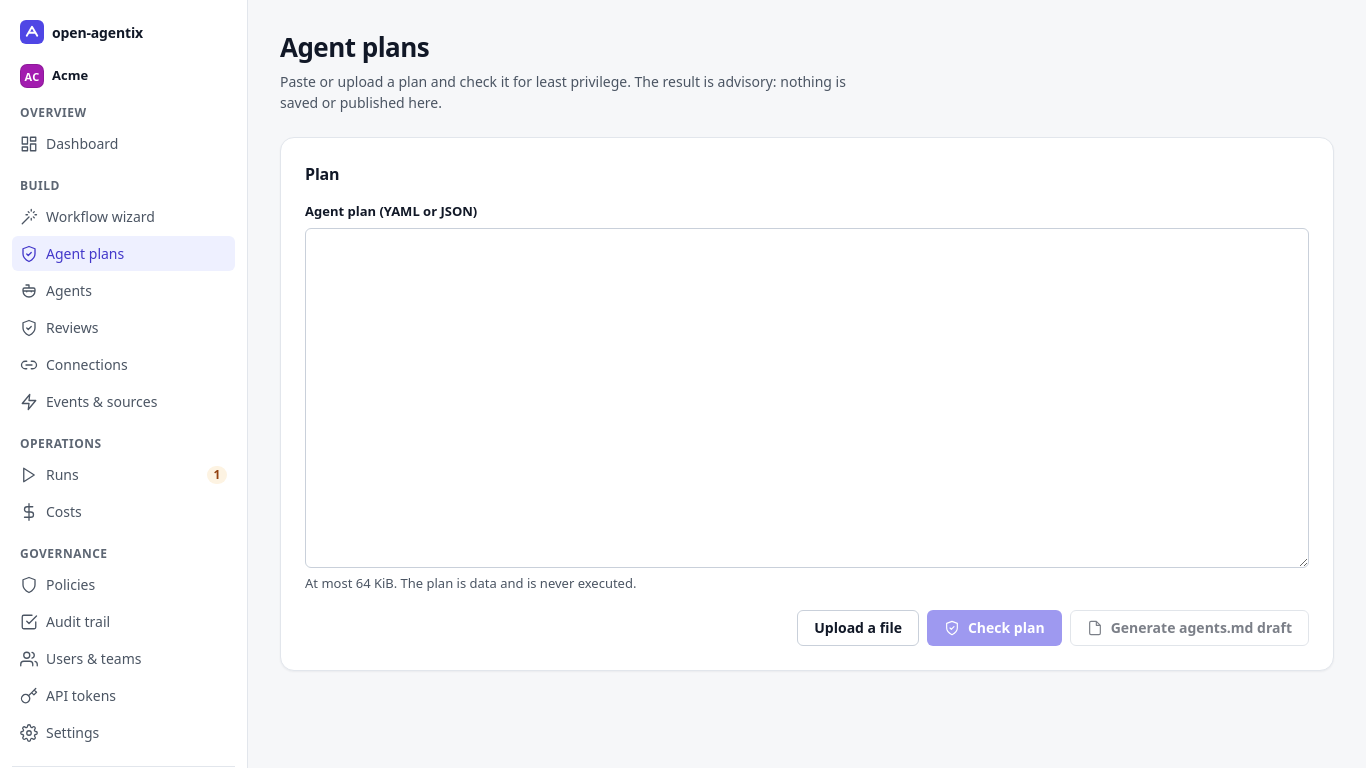
plans page › shows API errors
The image size is (1366, 768).
Type "name: x" into the text box labelled "Agent plan (YAML or JSON)" at (807, 398), box [305,228,1309,568]
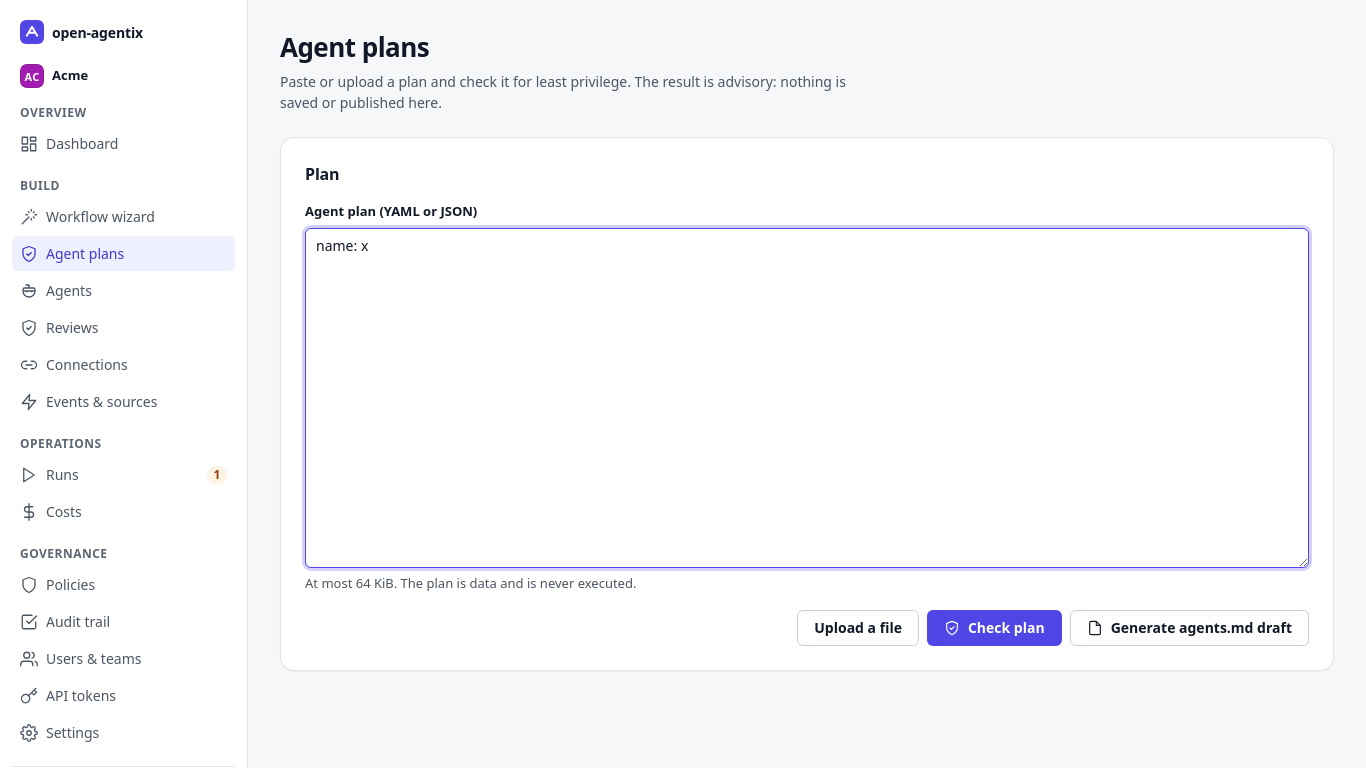
Click the button "Check plan" at (994, 628), box [927,610,1062,646]
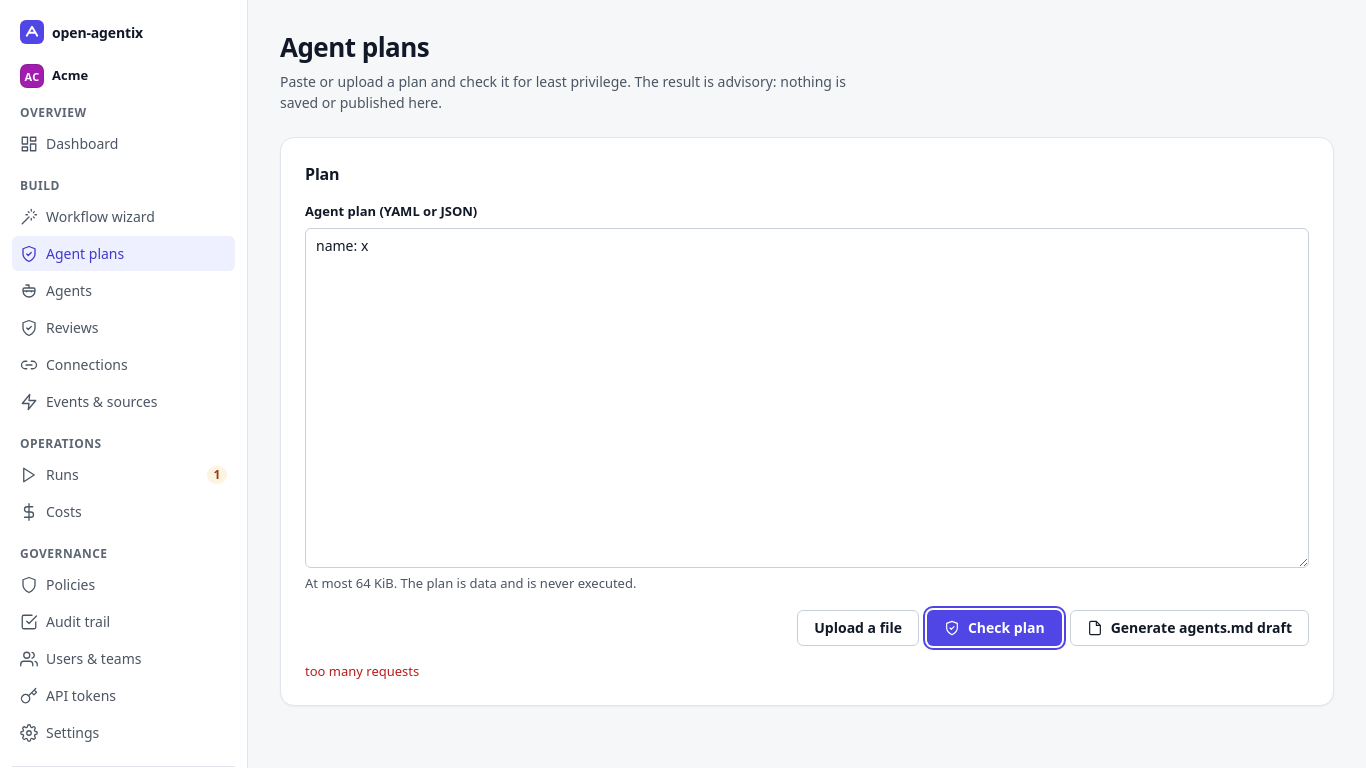
Expected: the text "too many requests" is shown, [305,662,419,680]
